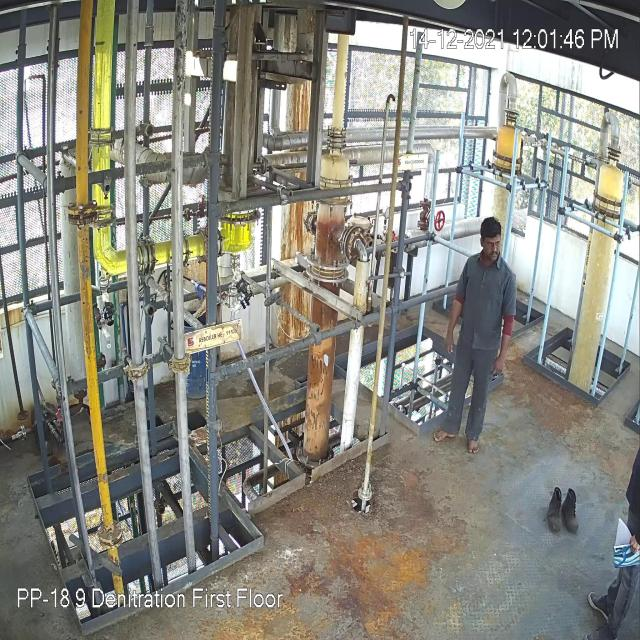no-shoes: (430, 418, 462, 449), (464, 418, 483, 463)
shoes: (541, 481, 566, 542), (566, 484, 585, 541)
